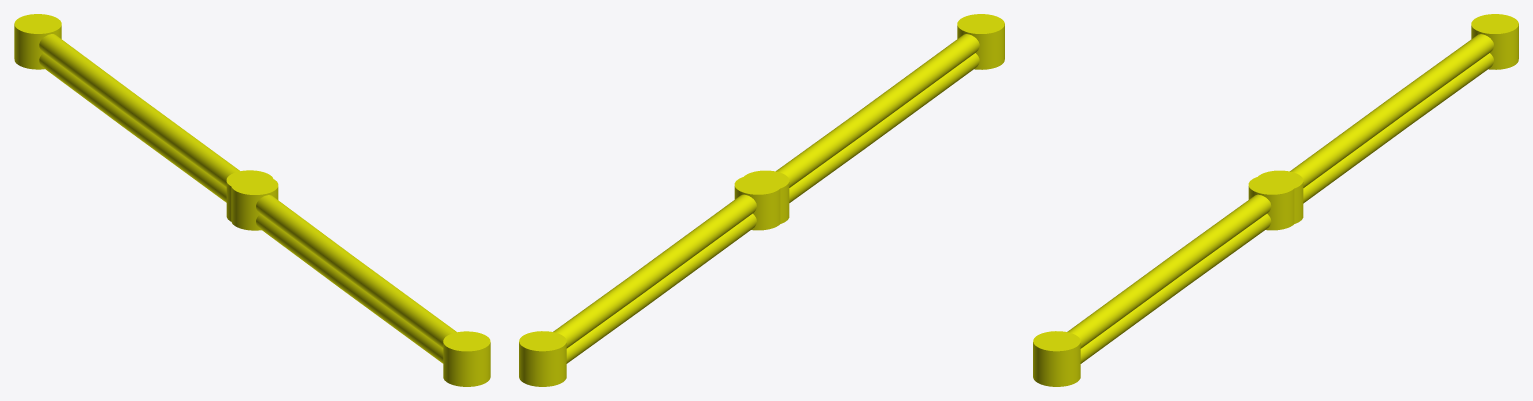
Rendered from Railing.fbx.
3 views of the same model, side by side, from view 1: azimuth 30°, elevation 25°; view 2: azimuth 150°, elevation 25°; view 3: azimuth 330°, elevation 25° (orthographic).
Visible parts, largest first — view 1: Circle; view 2: Circle; view 3: Circle.
Part boxes in pixels (x1=…): Circle: x1=14, y1=14, x2=490, y2=386; Circle: x1=519, y1=14, x2=1004, y2=386; Circle: x1=1033, y1=14, x2=1518, y2=386.
Bounding box in the file's own units: 245 × 190 × 4331.
